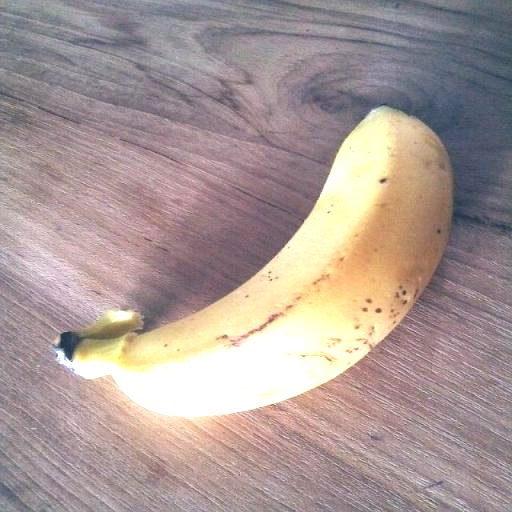fruit: (57, 107, 451, 415)
